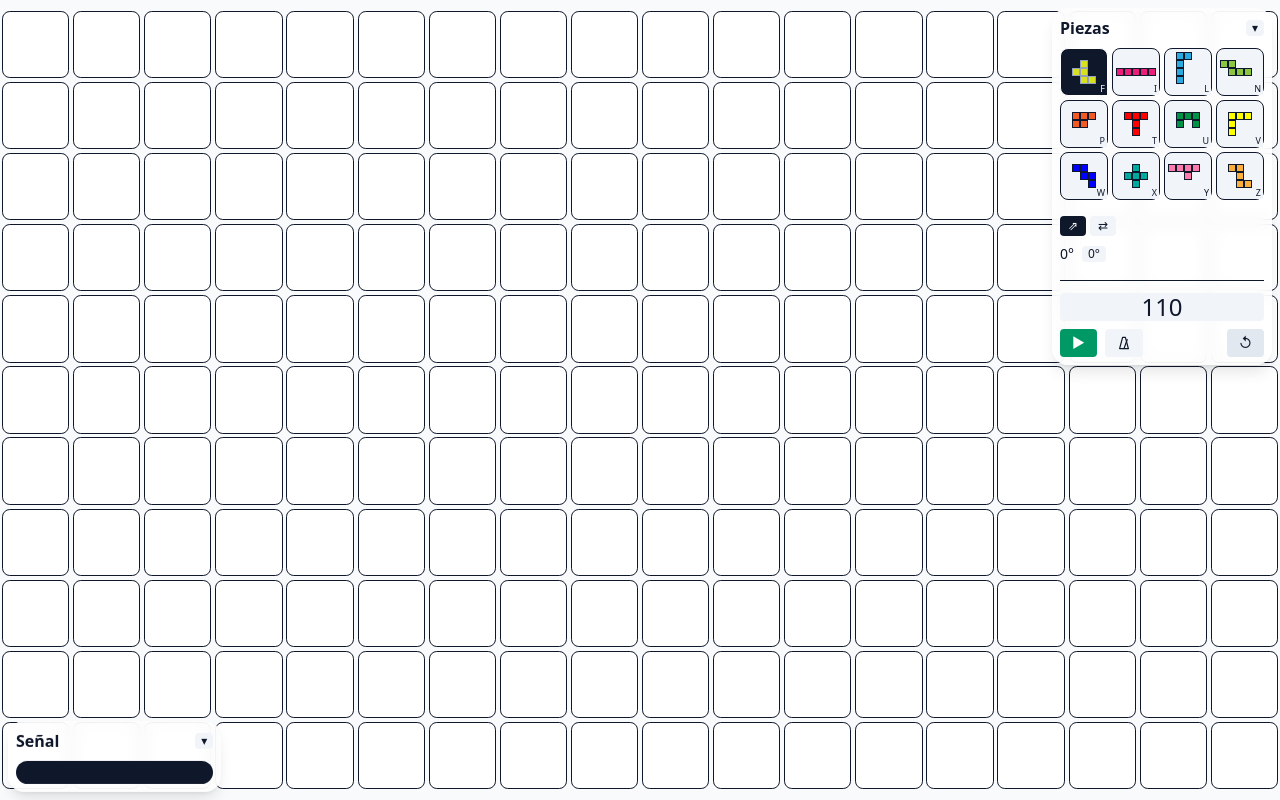
it: App: the transport › AC-BRD-030 AC-PLY-038 — Reset stops the transport AS WELL AS it empties the board
The width and height of the screenshot is (1280, 800).
Click the cell named "fila 3, columna 4, libre": (249, 187) [213,151,284,222]
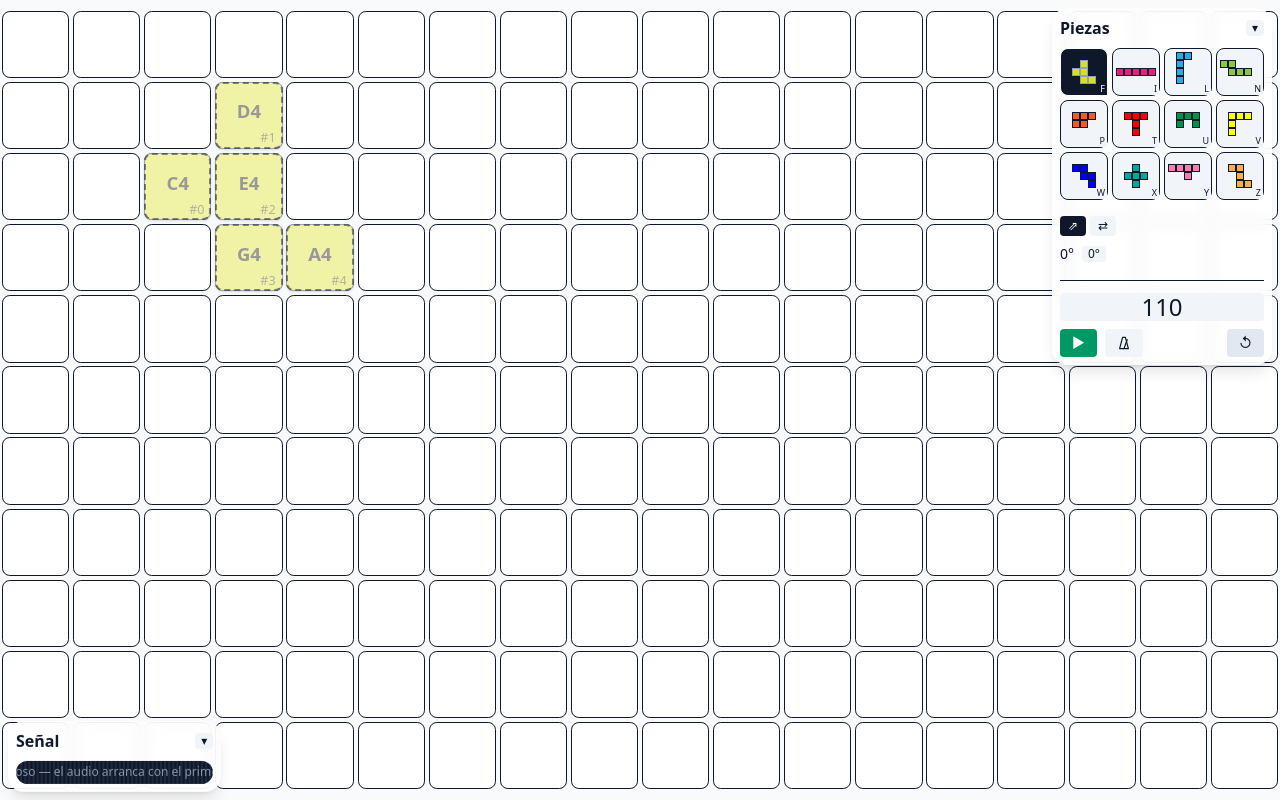
Click the button named "Reproducir": (1078, 343) [1060,329,1097,357]
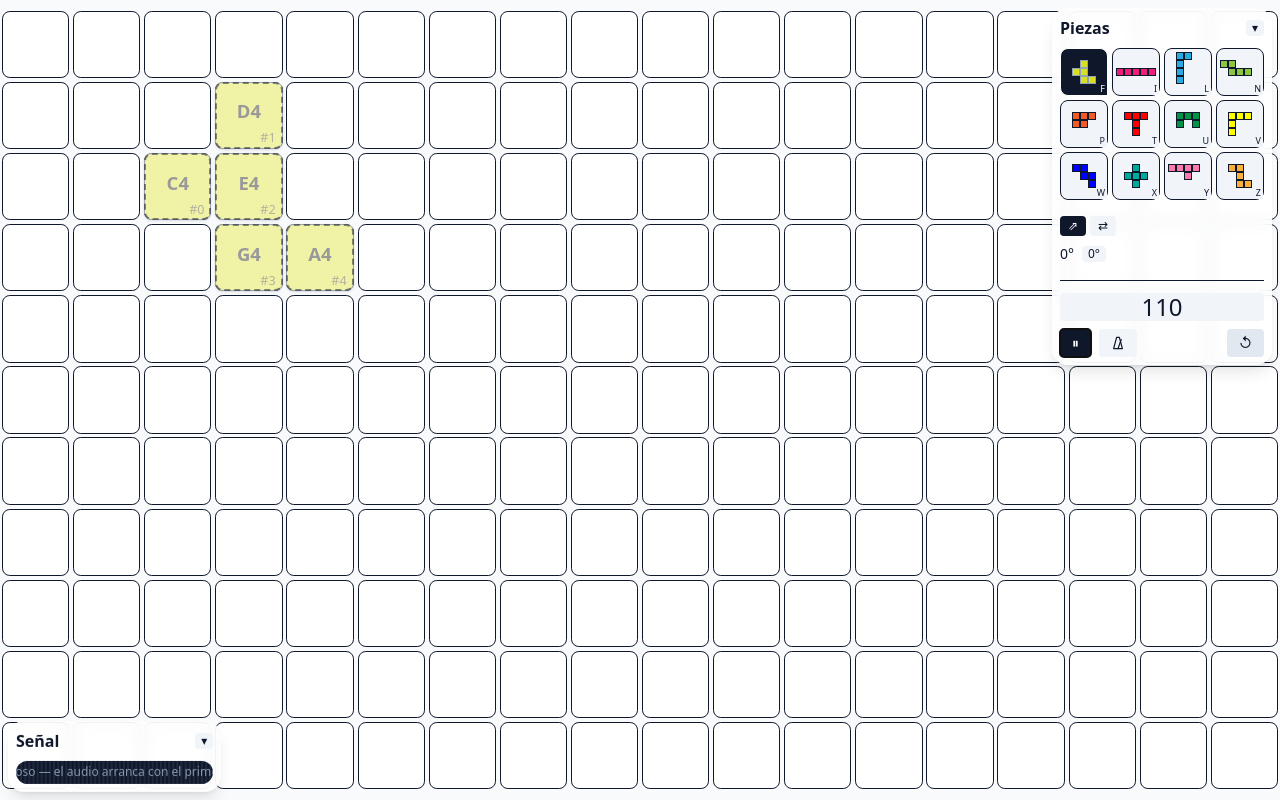
Click the button named "Vaciar el tablero y frenar el transporte": (1245, 343) [1227,329,1264,357]
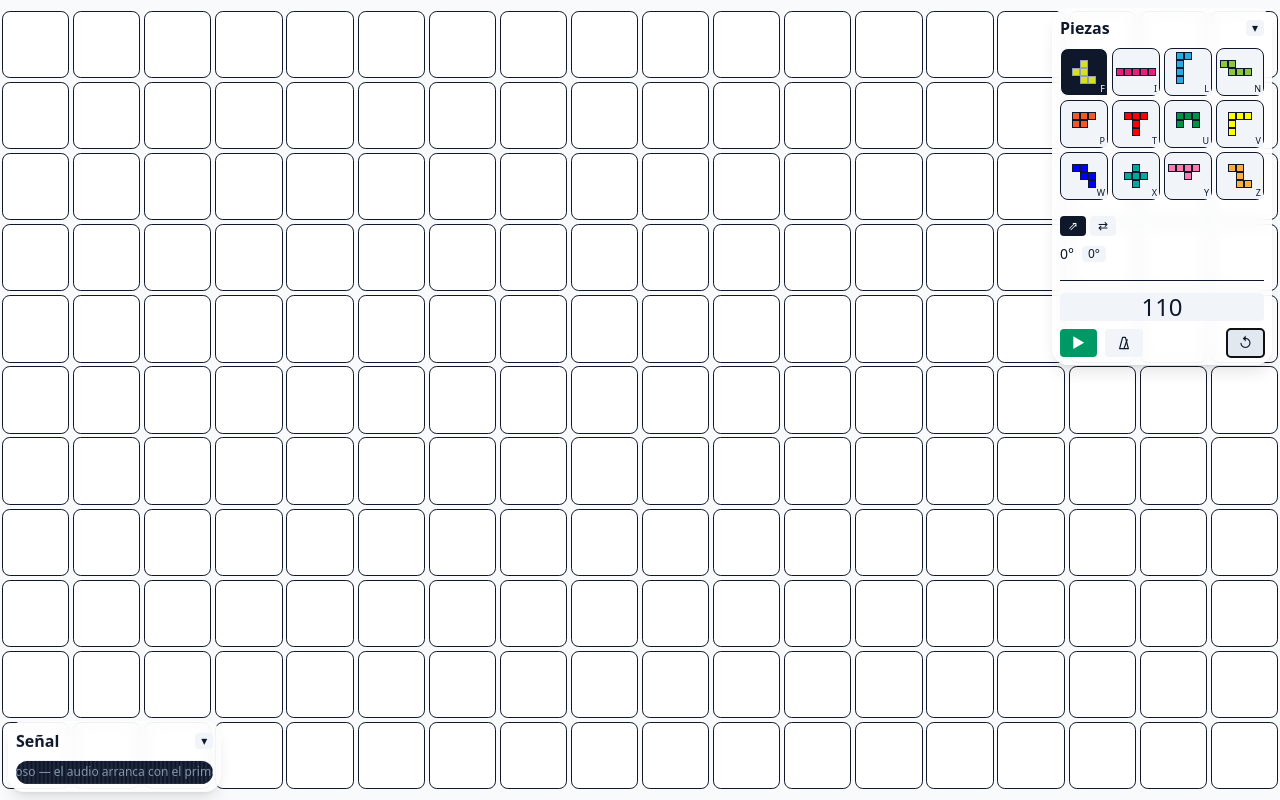
Expected: the button named "Reproducir" is shown, [1060,329,1097,357]
